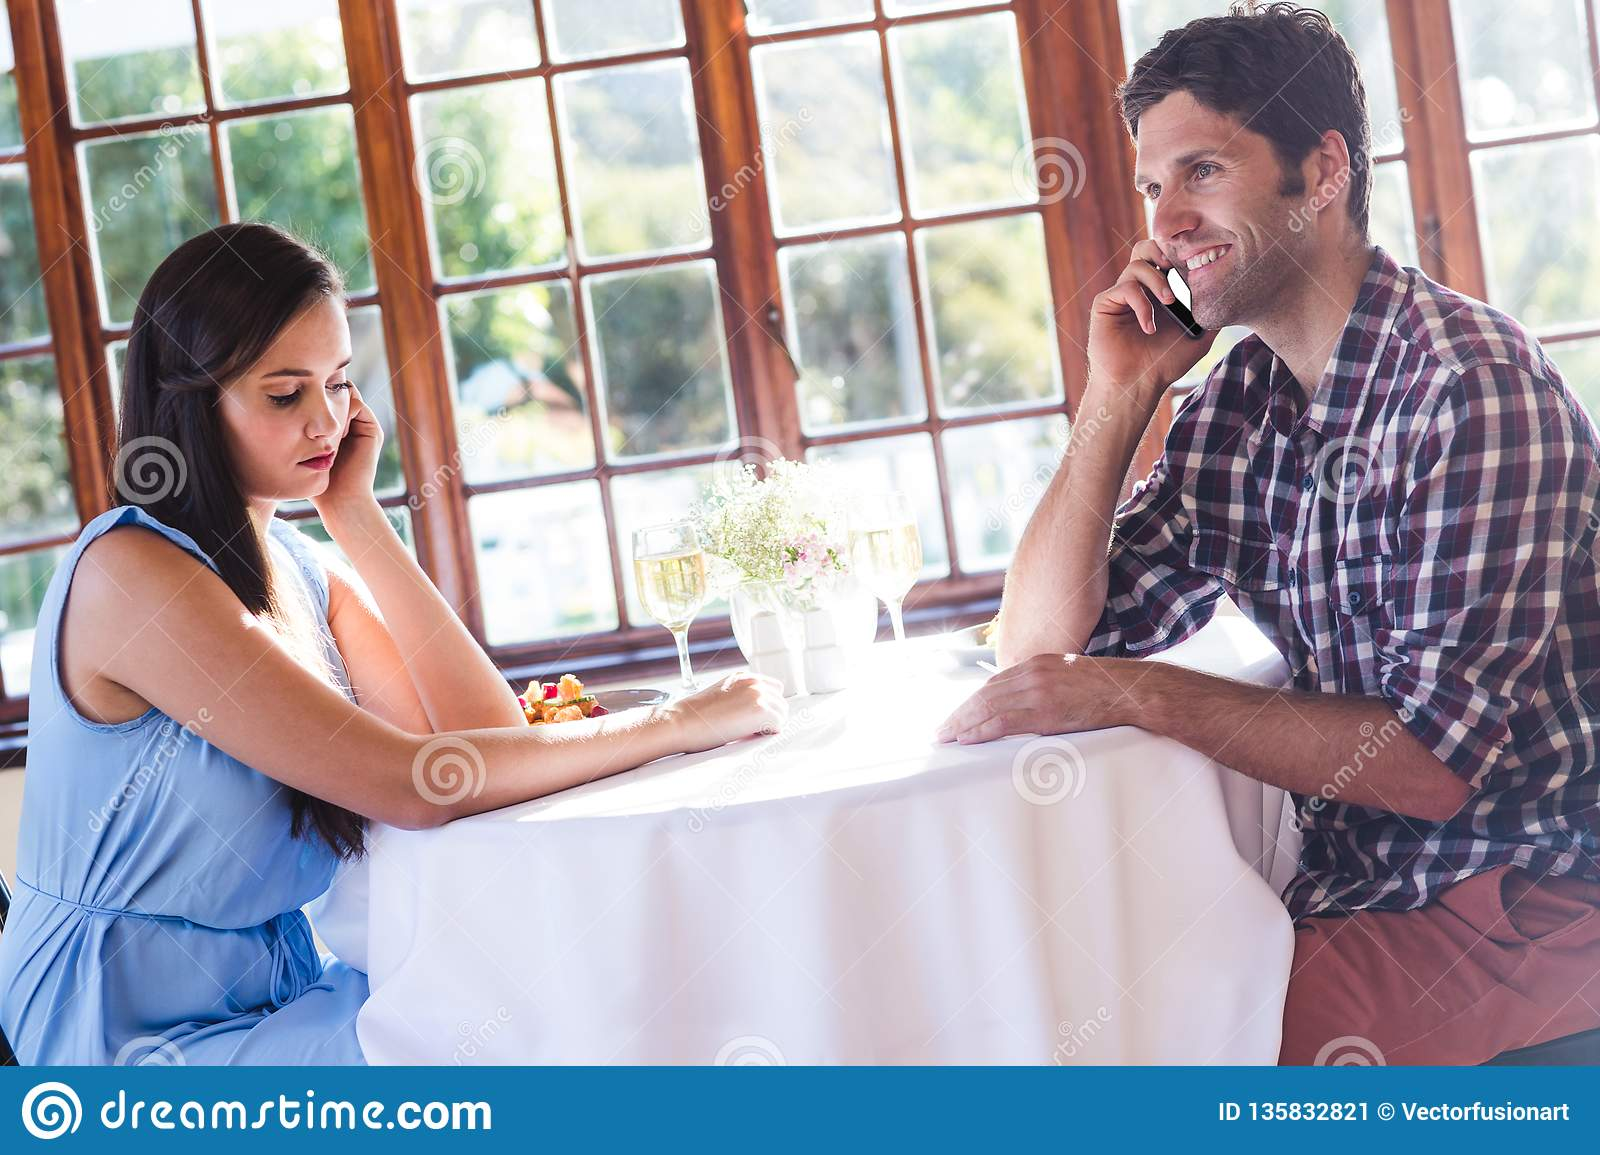talk: (1084, 143, 1253, 443)
